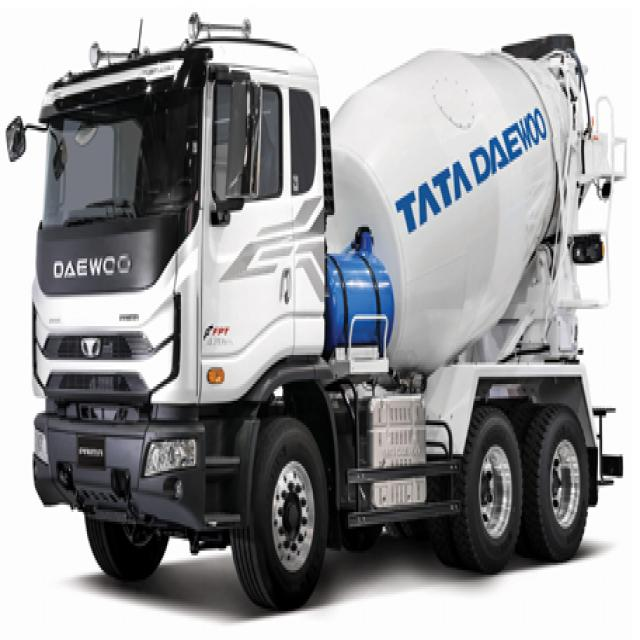Mixer Truck: (31, 34, 626, 608)
